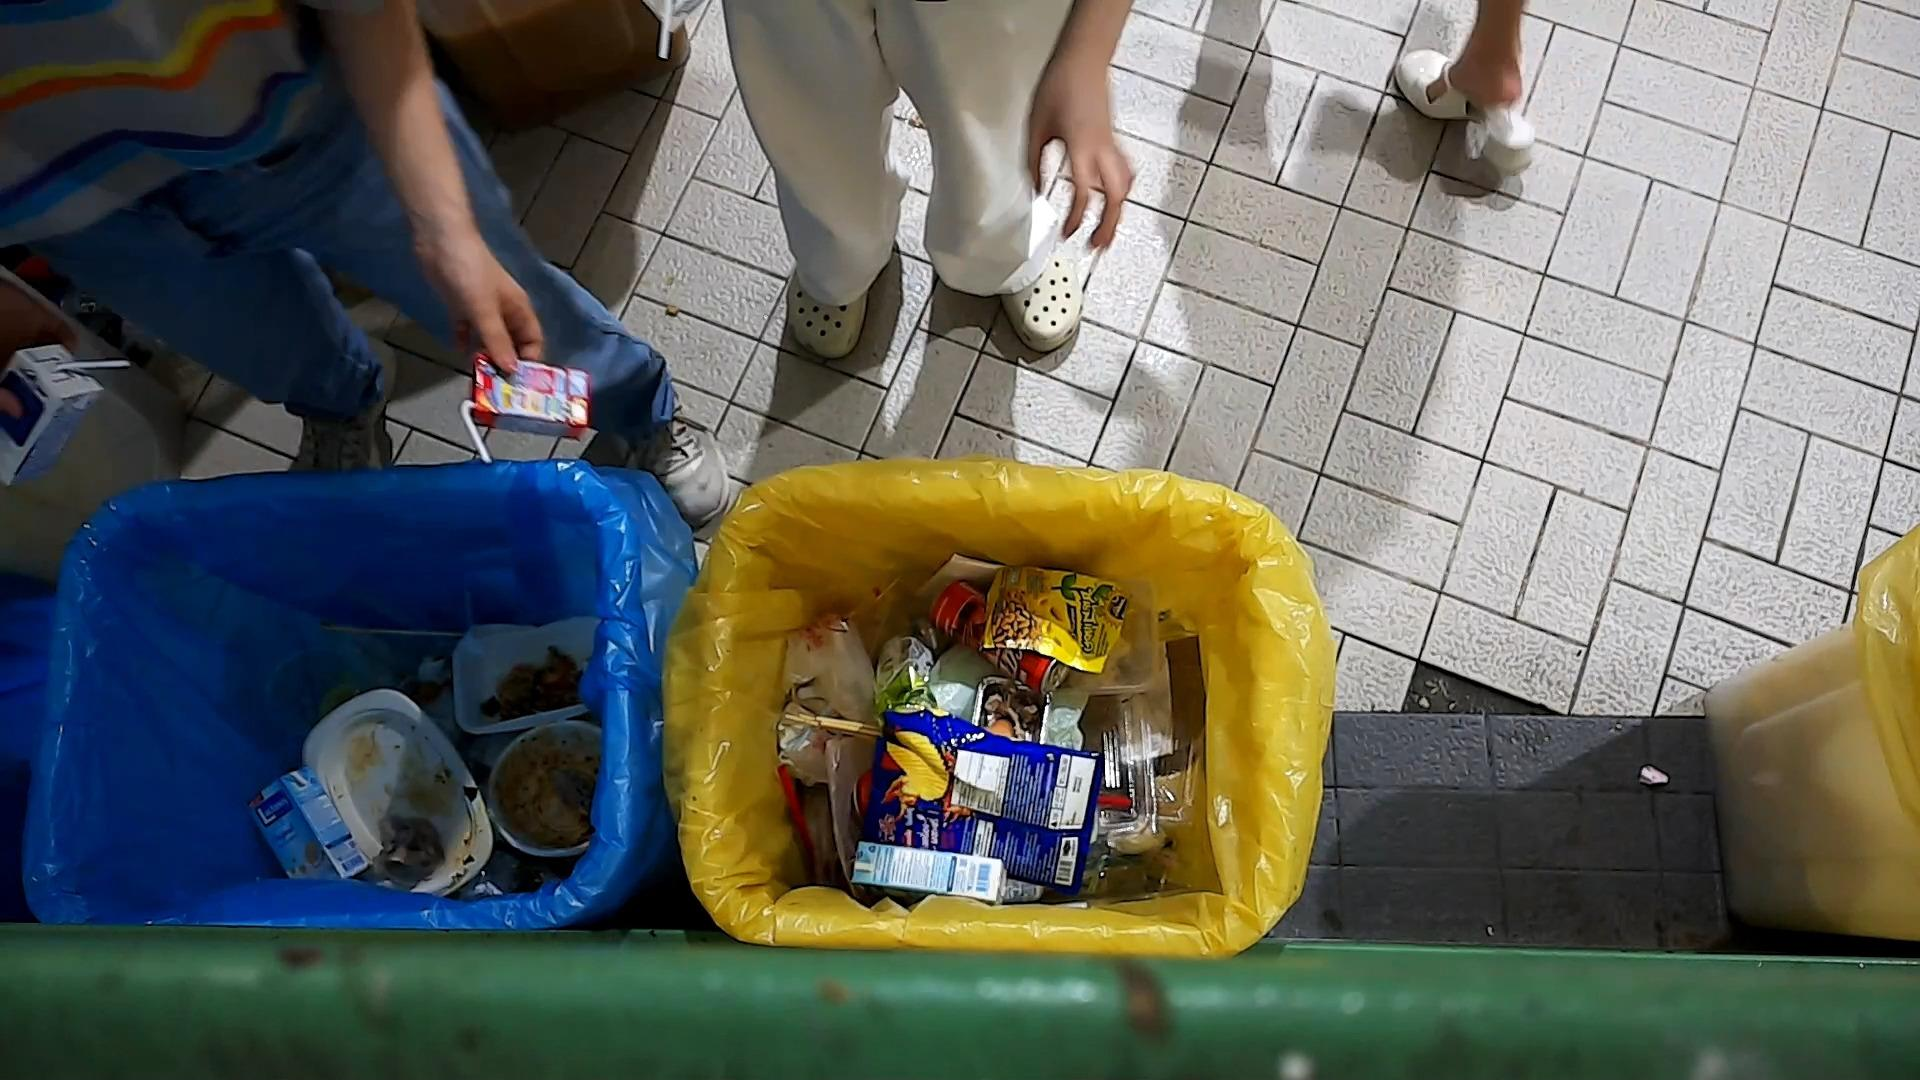can: (928, 574, 1067, 698), (872, 633, 935, 711)
dirty food container: (301, 678, 487, 897), (481, 721, 608, 870), (447, 615, 597, 736)
milk carton: (0, 326, 132, 497), (455, 351, 599, 465), (244, 769, 365, 882), (848, 839, 1007, 902)
snack packaging: (870, 688, 1114, 880), (980, 563, 1130, 673)
straw: (777, 764, 827, 878)
